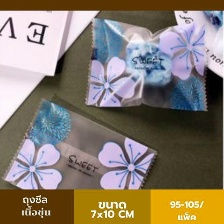snack: (0, 93, 162, 188), (77, 12, 215, 116)
